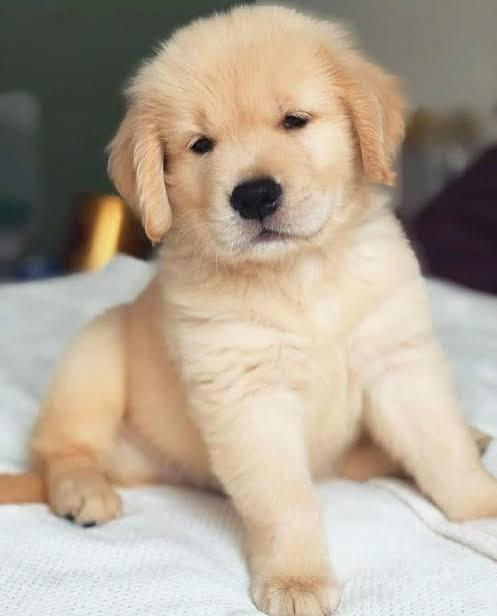puppy-dog: (2, 6, 497, 612)
